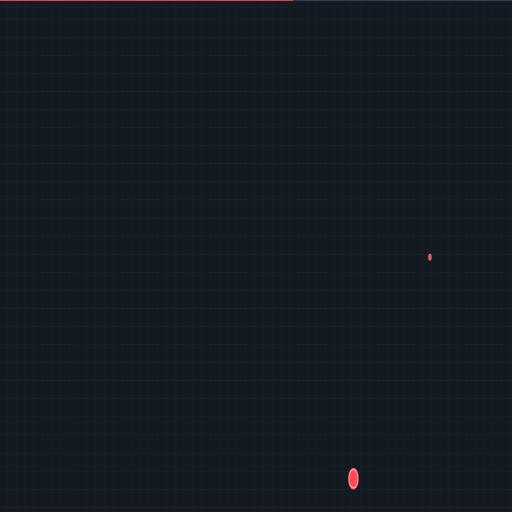Target-Detection: (348, 468, 359, 489), (428, 254, 432, 260)
